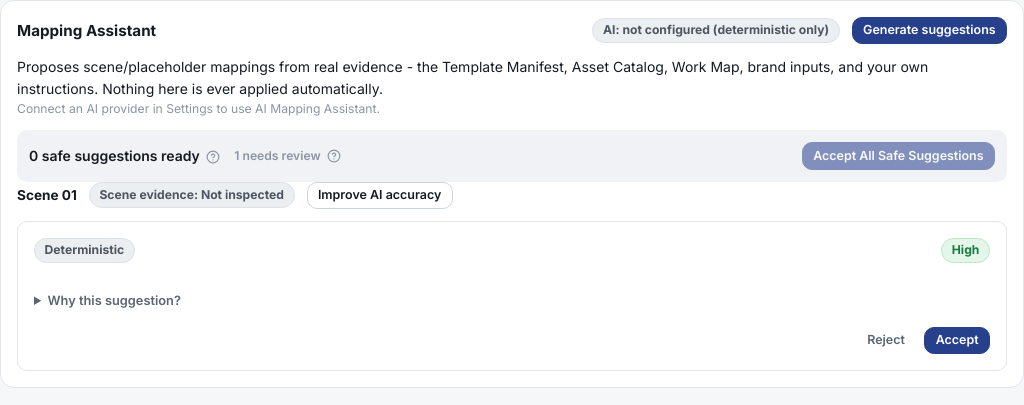
Scenario: MappingAssistantPanel › accepts a suggestion and removes it from the pending list, showing it as User Confirmed
What coordinates should you click on to do the following:
click the button "Accept"
I would click on:
 (957, 341)
Its box is 924,327 -> 990,354.
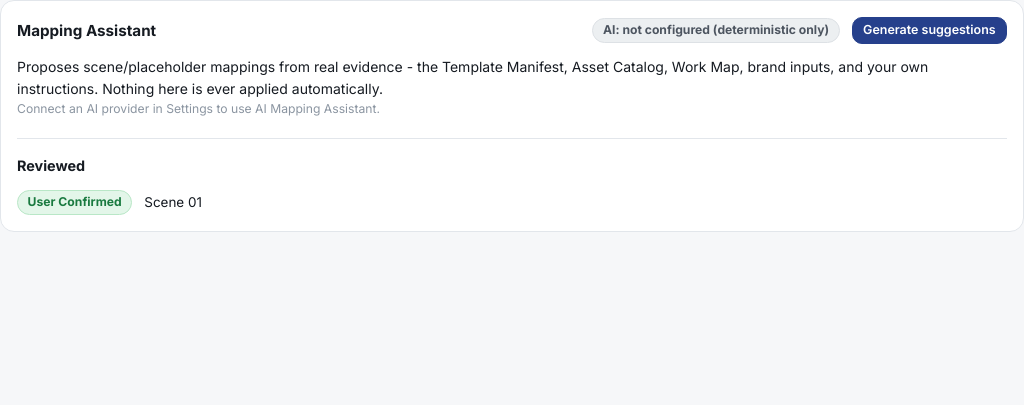
Result: the text "User Confirmed" is shown at 17,190 -> 132,215
Result: the button "Accept" is gone
